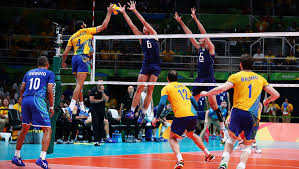ball: (108, 3, 120, 15)
